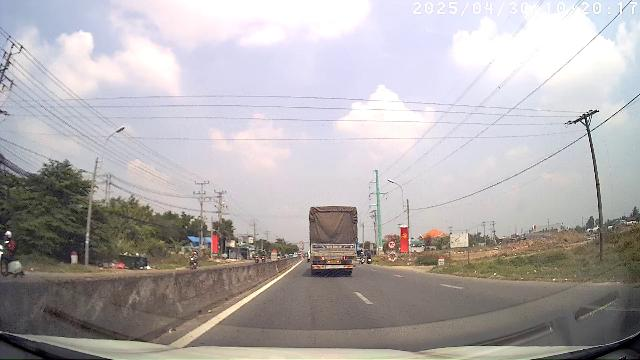124b-cam-oto-quay-dau-xe: (388, 241, 396, 249)
